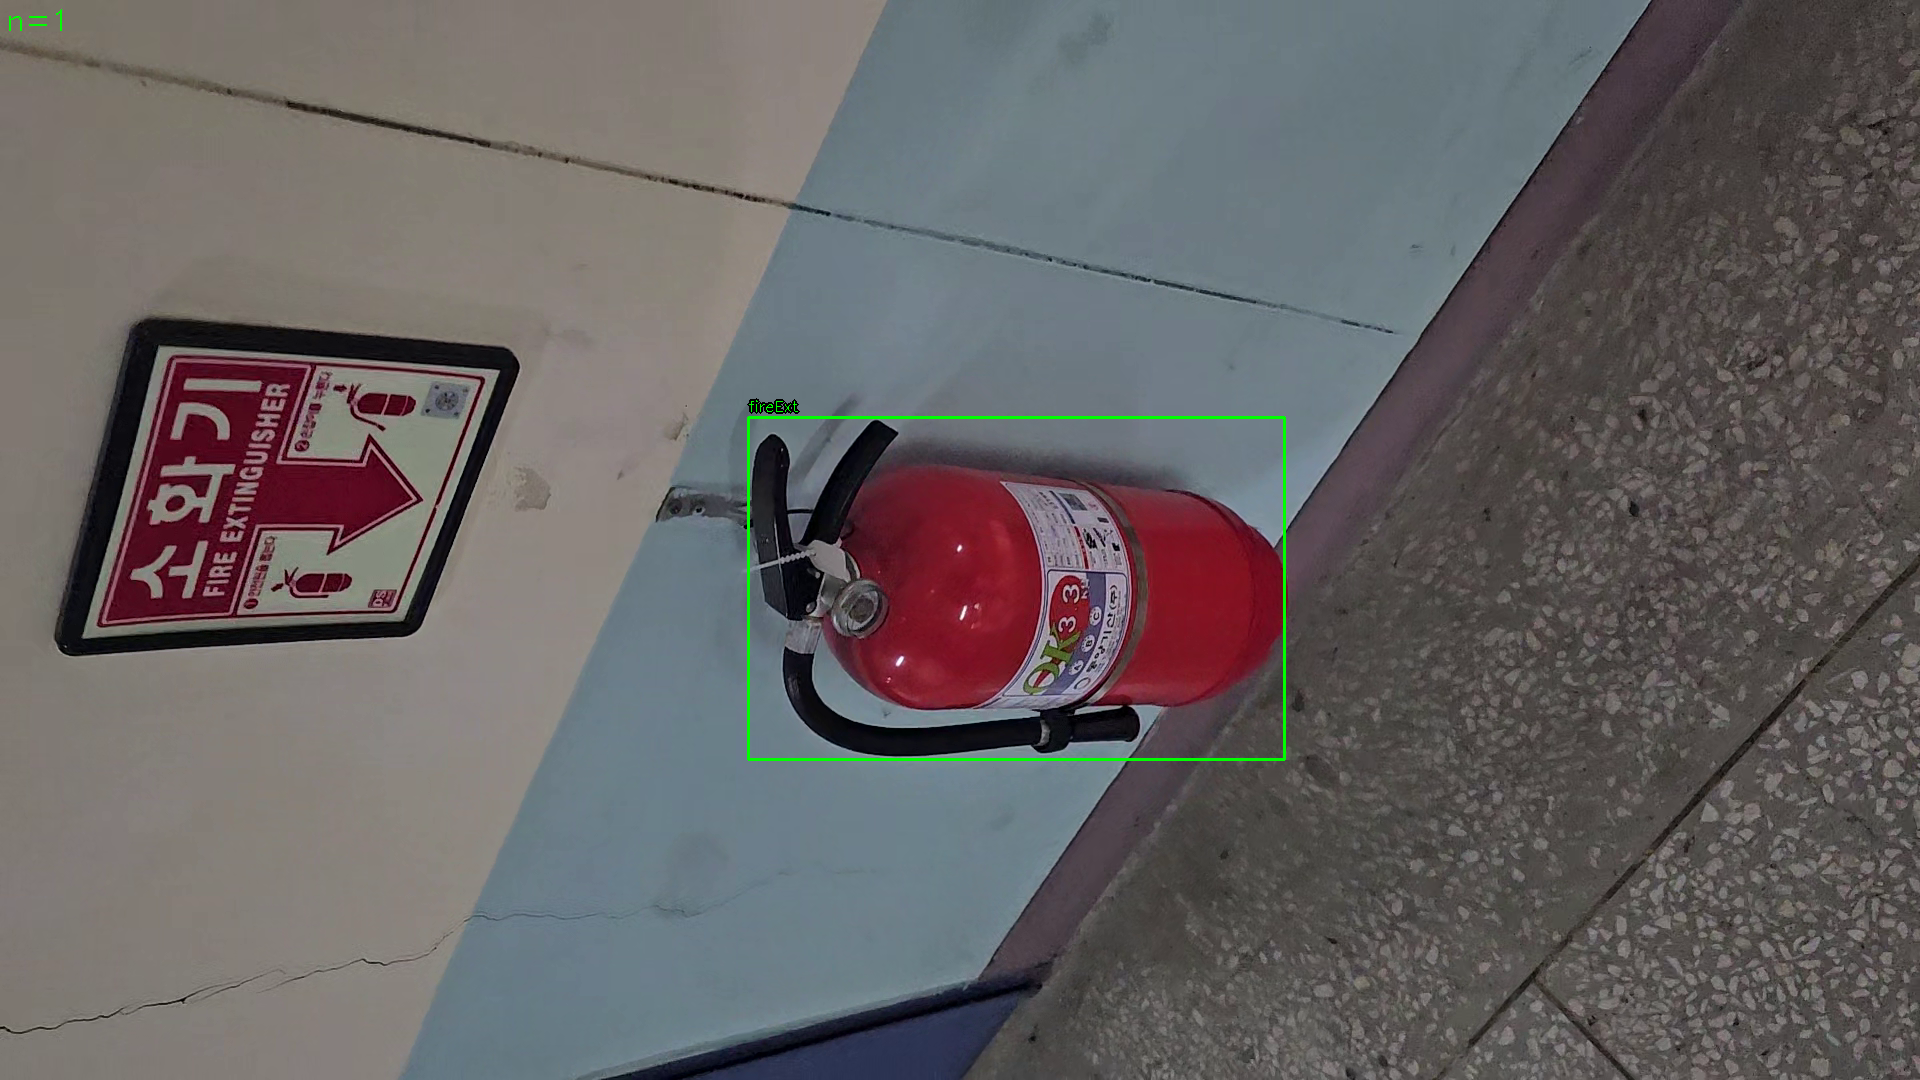lane: (748, 417, 1284, 760)
